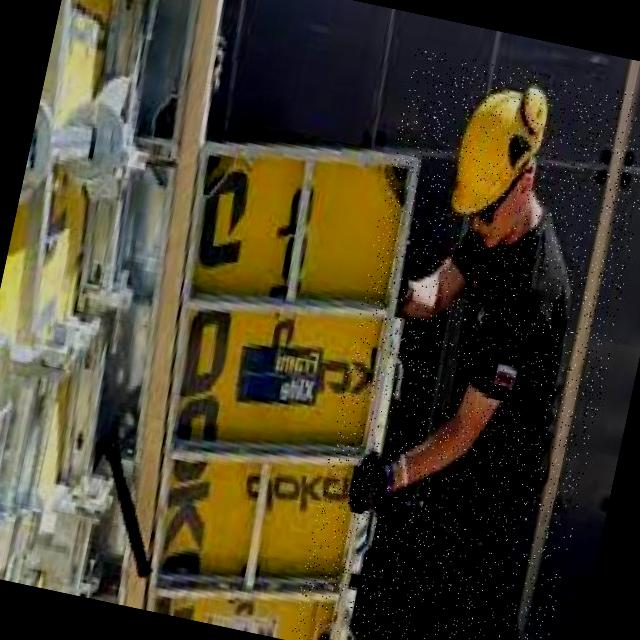gloves: (322, 422, 423, 536), (352, 231, 440, 349)
helmet: (439, 72, 555, 235)
